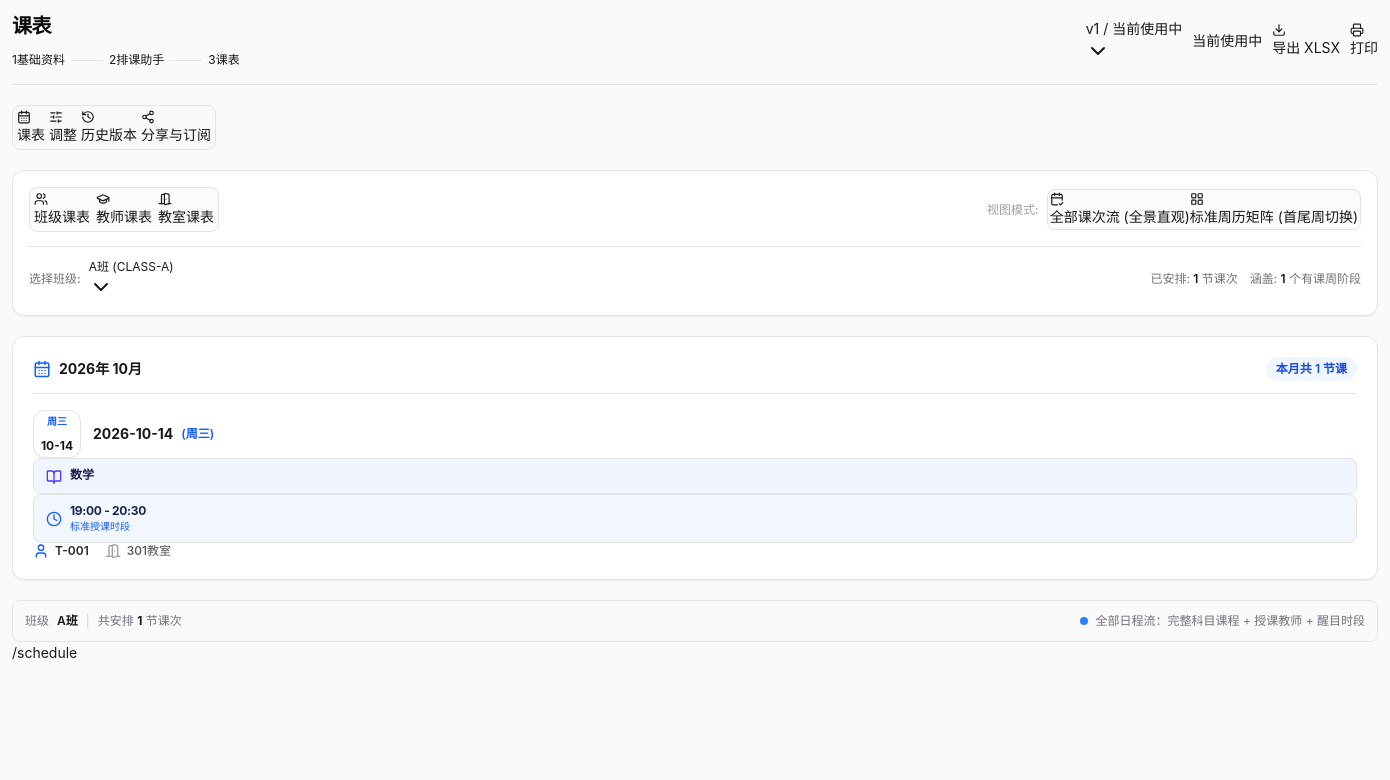
it: SchedulePage hub › lesson selection › selects a lesson and offers 调整这节课 and 交给助手继续处理 to schedulers
This screenshot has width=1390, height=780.
Expected: the button "调整这节课" is not shown
Click the button with test id "lesson-card-COURSE-1" at (695, 484), box [33,410,1357,559]
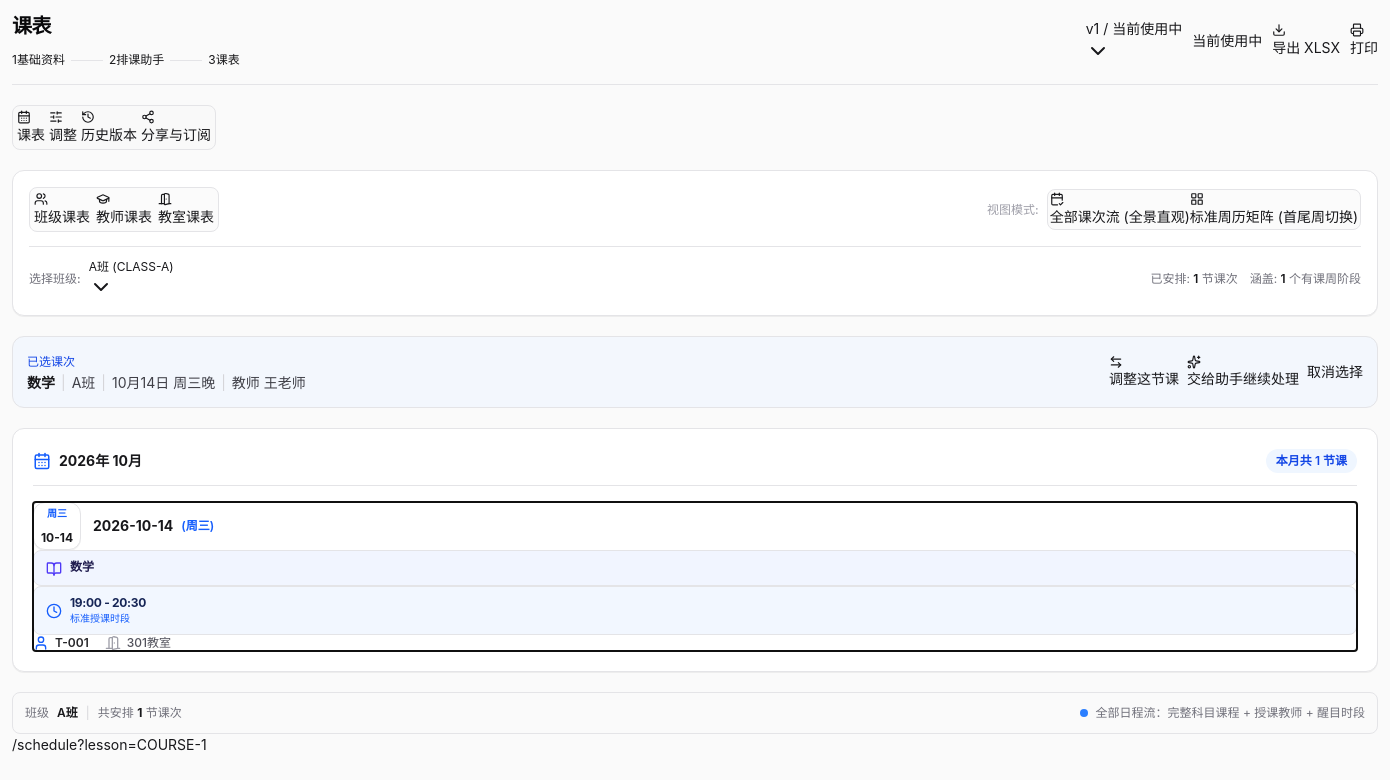
Expected: the element "已选课次" shows "数学", [27,374,55,391]
Expected: the element "已选课次" shows "A班", [72,374,95,391]
Expected: the element "已选课次" shows "10月14日 周三晚", [112,374,215,391]
Click the button "取消选择" at (1335, 372), box [1307,362,1363,382]
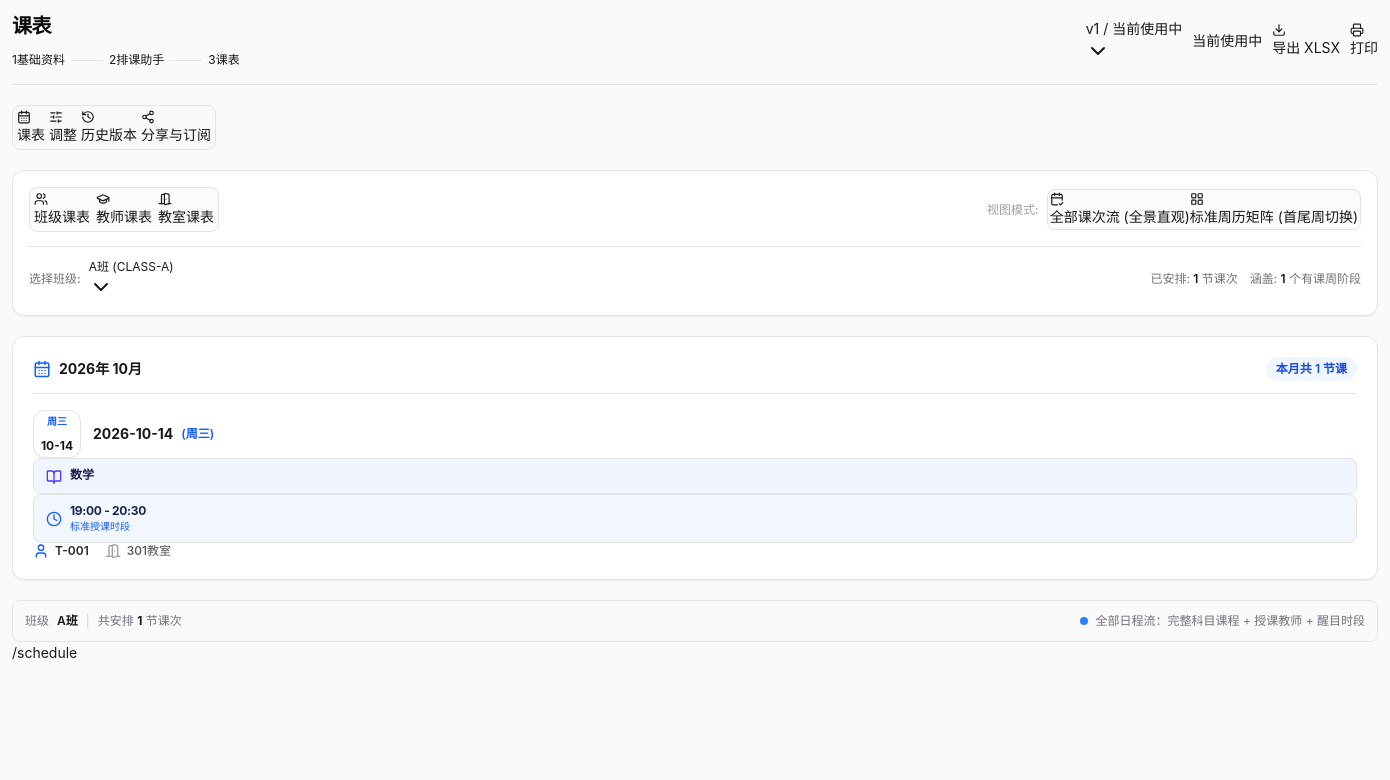
Expected: the text "已选课次" is gone
